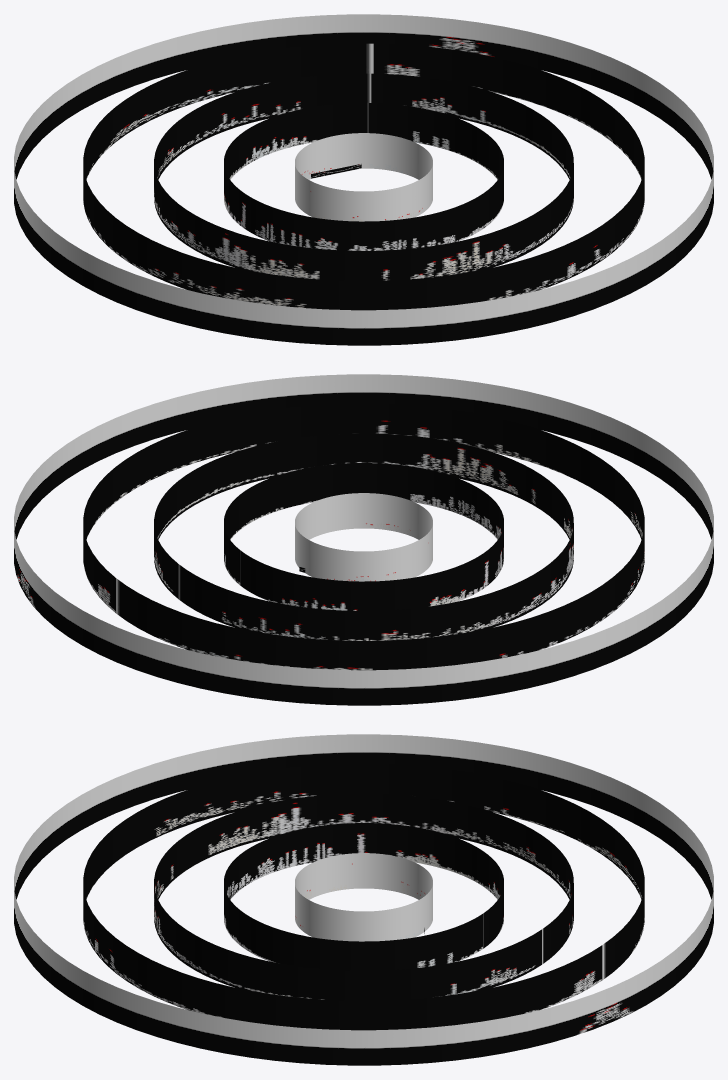
File: lights.obj
The picture shows the model from 3 angles, top to bottom: view 1: azimuth 30°, elevation 25°; view 2: azimuth 150°, elevation 25°; view 3: azimuth 270°, elevation 25°; orthographic projection.
Bounding box in the file's own units: 44756 × 2500 × 44756.
Materials: 1 (1 with a texture image).
